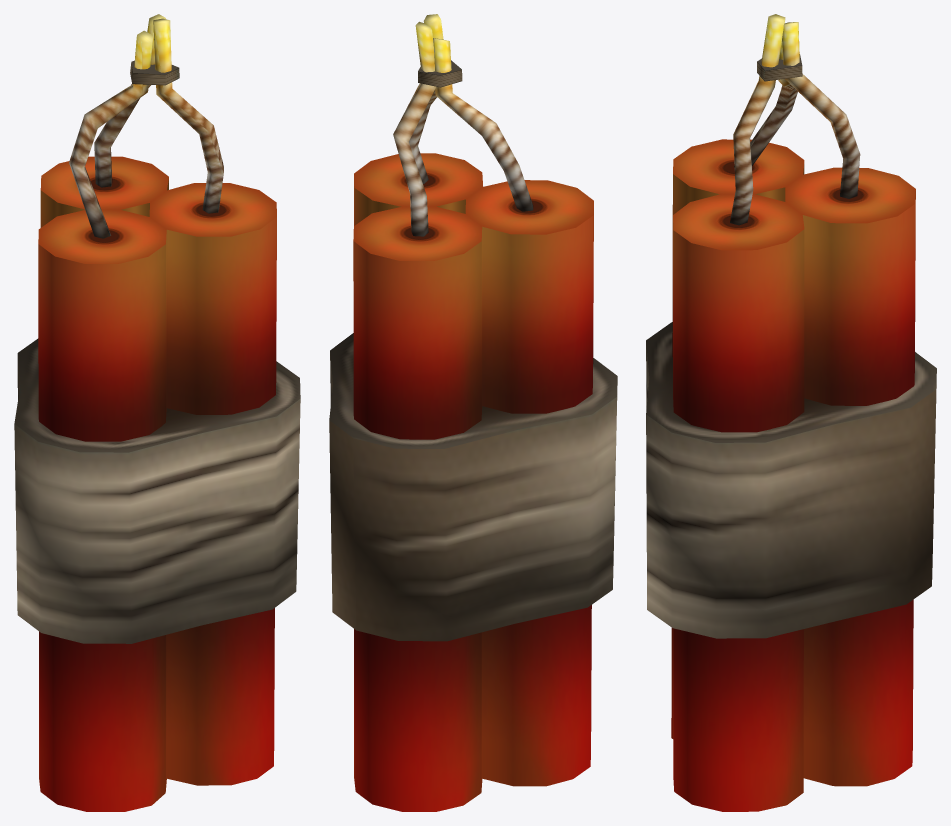
File: Dynamite.FBX
3 renders of one model, left to right at view 1: azimuth 30°, elevation 25°; view 2: azimuth 150°, elevation 25°; view 3: azimuth 270°, elevation 25°, orthographic. The views are drawn at different scales.
Visible parts, largest first — view 1: Object012; view 2: Object012; view 3: Object012.
Part boxes in pixels (x1=…): Object012: x1=14, y1=14, x2=300, y2=811; Object012: x1=329, y1=14, x2=617, y2=811; Object012: x1=646, y1=14, x2=936, y2=811.
Bounding box in the file's own units: 0.2654 × 0.7108 × 0.249.
